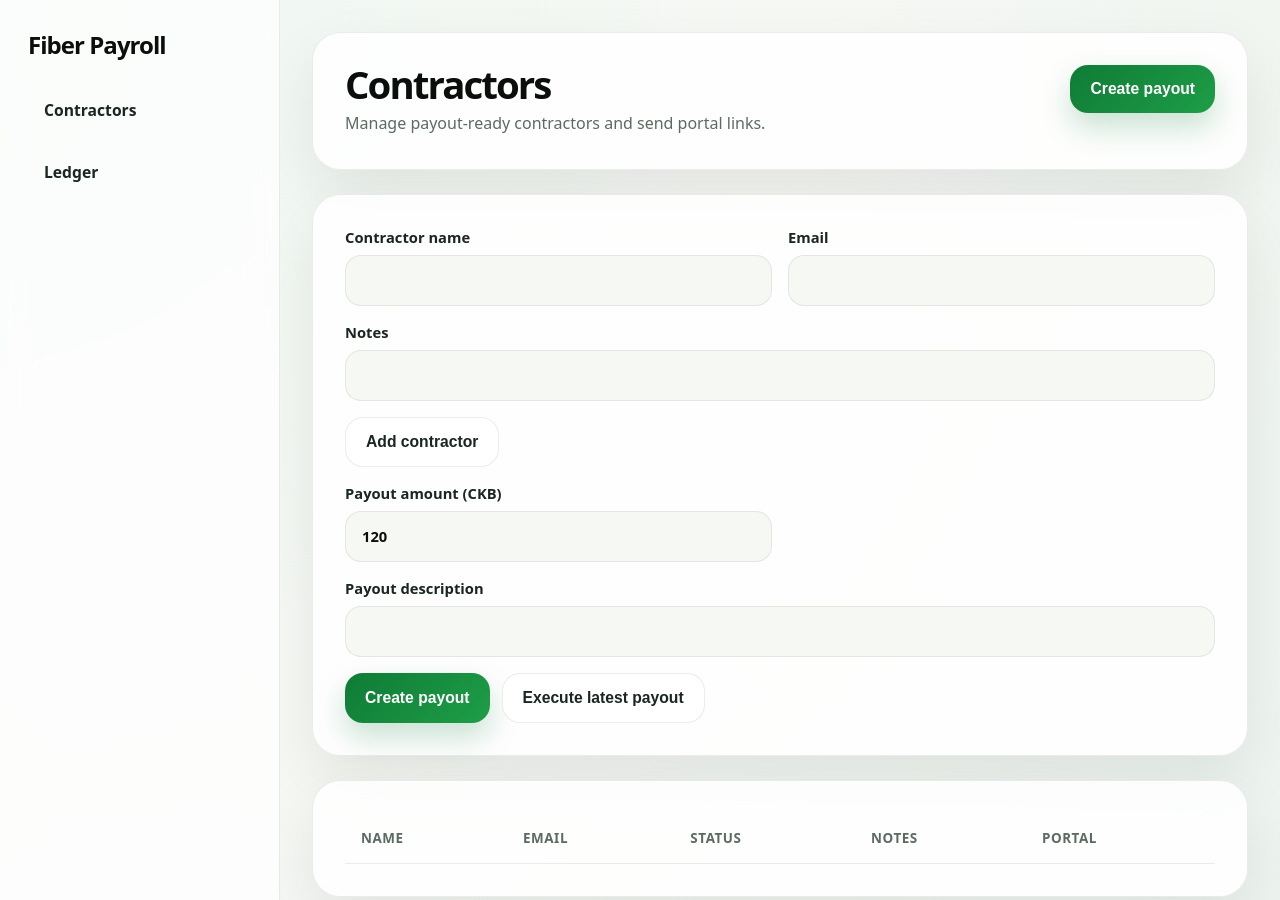
it: App shell › switches to the ledger view when the ledger nav link is clicked
This screenshot has width=1280, height=900.
Click the link "Ledger". click: (71, 172)
box: [44, 161, 98, 183]
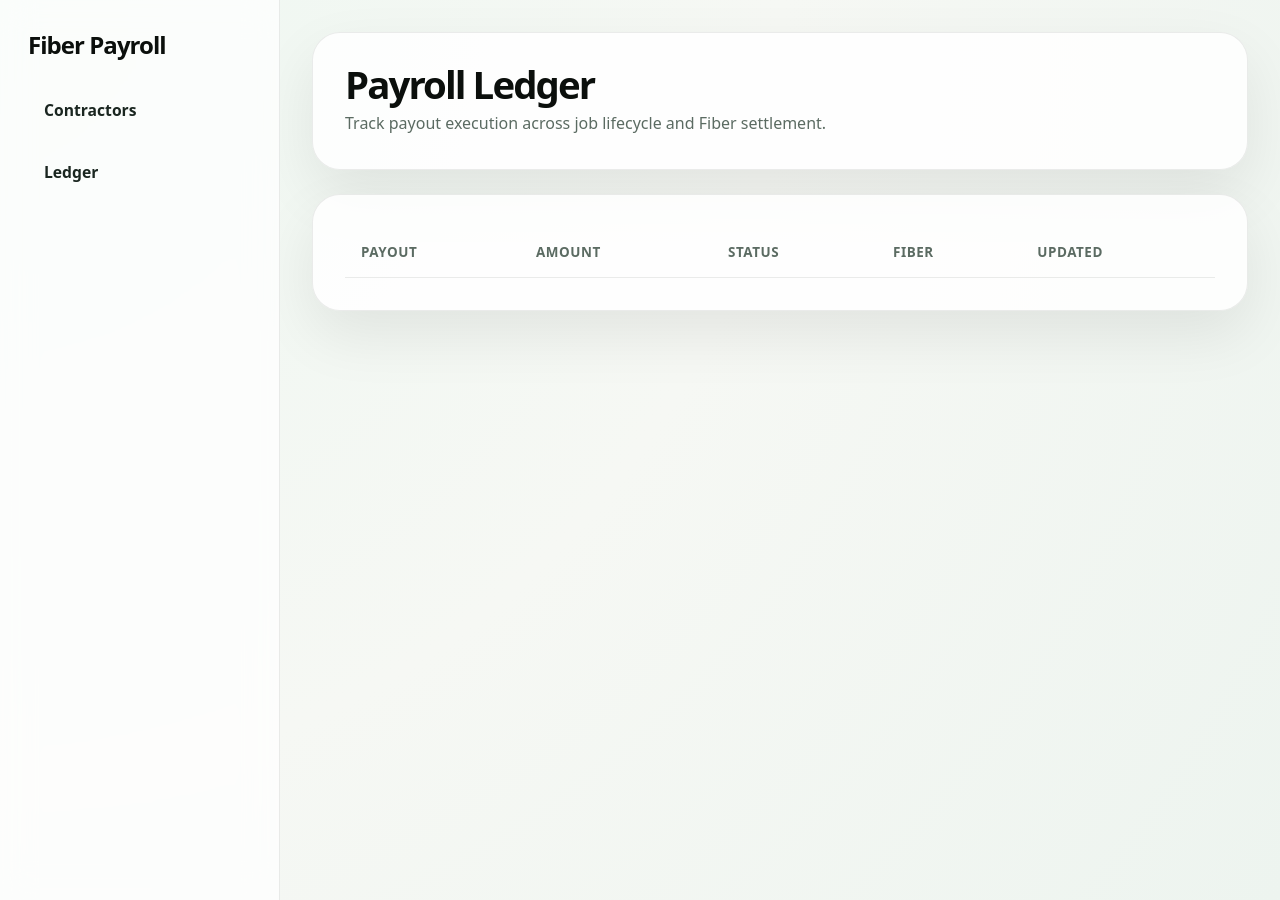
expect the heading "Payroll Ledger" is shown: met, box [345, 58, 594, 110]
